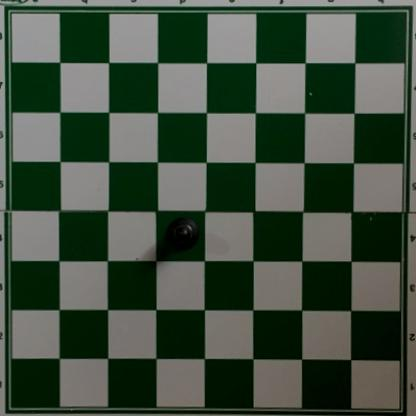black-pawn: (164, 216, 200, 253)
